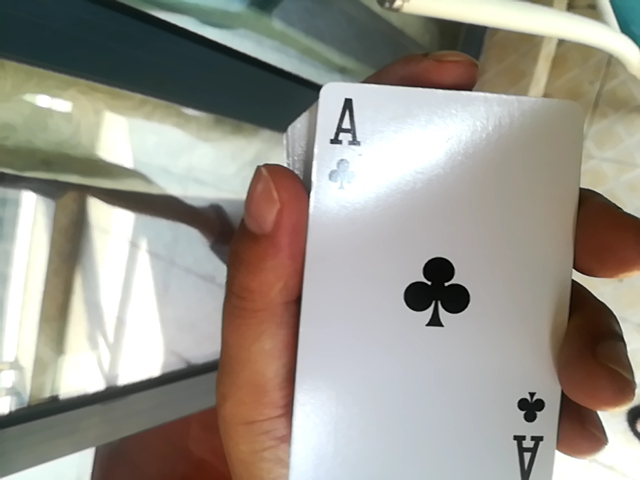mh a: (267, 113, 637, 478)
